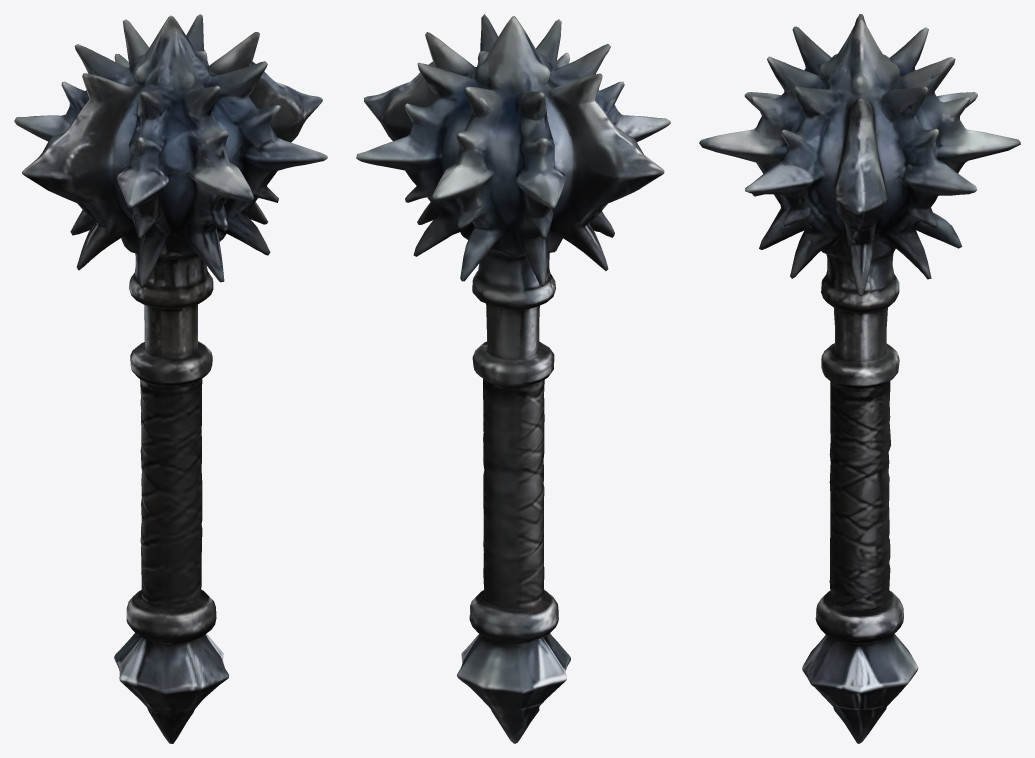
The model's file is blue_morning_star.glb.
The picture shows the model from 3 angles, left to right: view 1: azimuth 30°, elevation 25°; view 2: azimuth 150°, elevation 25°; view 3: azimuth 270°, elevation 25°; orthographic projection.
Visible parts, largest first — view 1: blue_morning_star; view 2: blue_morning_star; view 3: blue_morning_star.
Part boxes in pixels (x1,y1,x2,y2): blue_morning_star: (14,14,327,743); blue_morning_star: (356,14,670,743); blue_morning_star: (699,14,1020,743).
Bounding box in the file's own units: 0.324 × 0.75 × 0.3022.
Materials: 1 (1 with a texture image).
